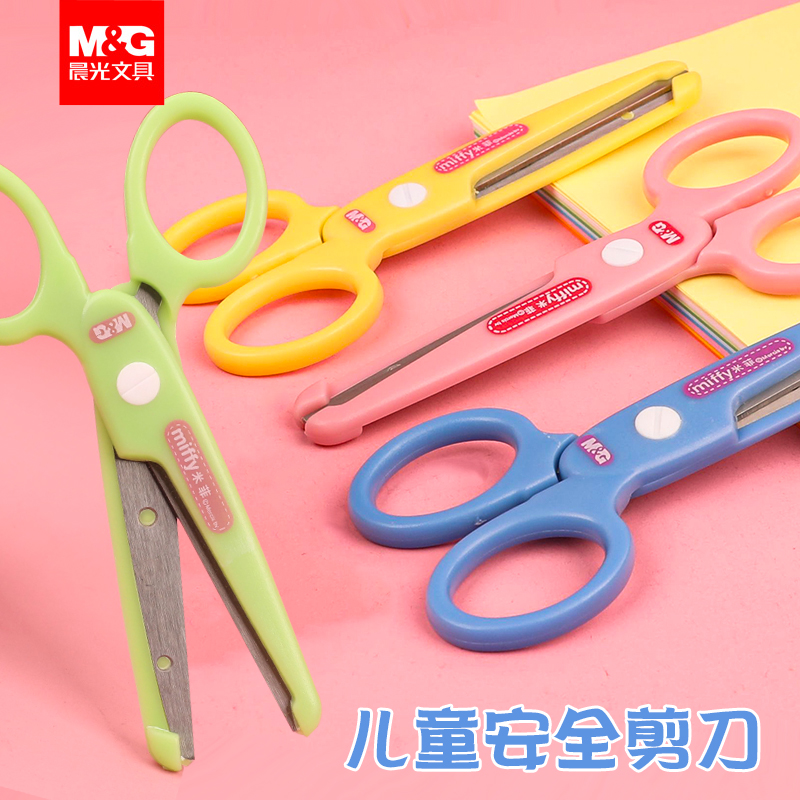scissors: (1, 90, 339, 781), (114, 62, 741, 379), (276, 106, 800, 447), (324, 321, 800, 655)
